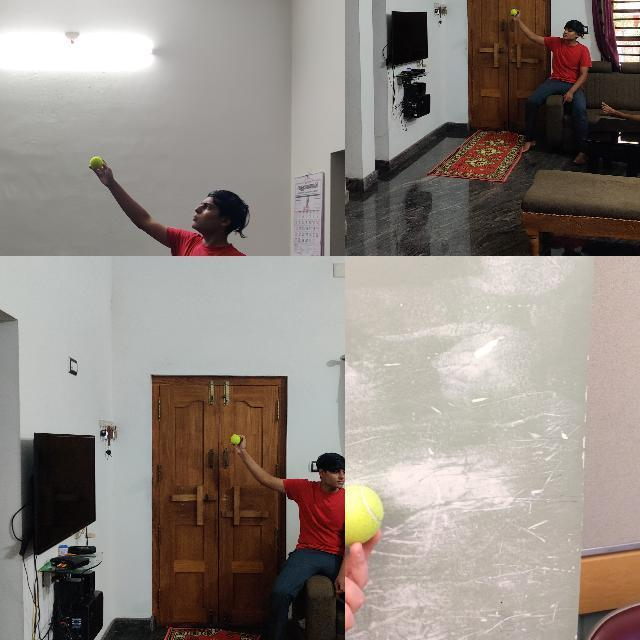tennis-ball: (345, 483, 386, 547), (90, 156, 103, 168), (230, 434, 240, 444), (510, 9, 516, 15)
